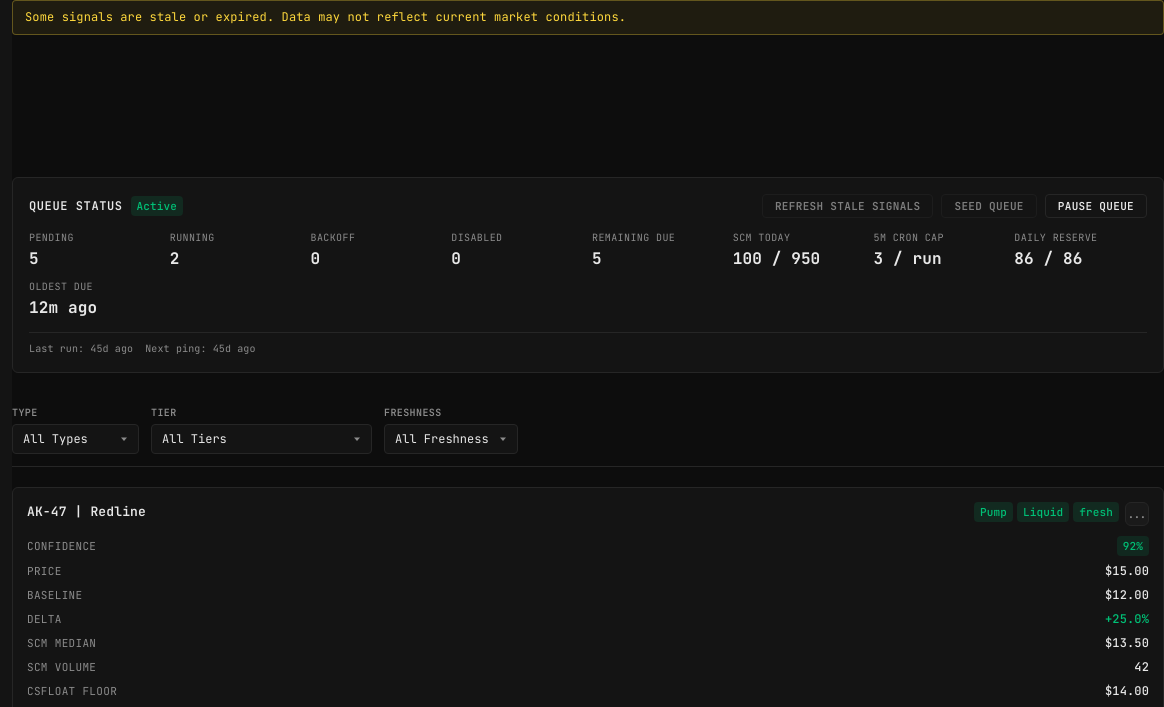
Scenario: IntelligenceDashboard › shows a mutation error when queue pause fails
The image size is (1164, 707).
Click the button with aria-label "Pause signal processing" at (1096, 206), box [1045,194,1147,218]
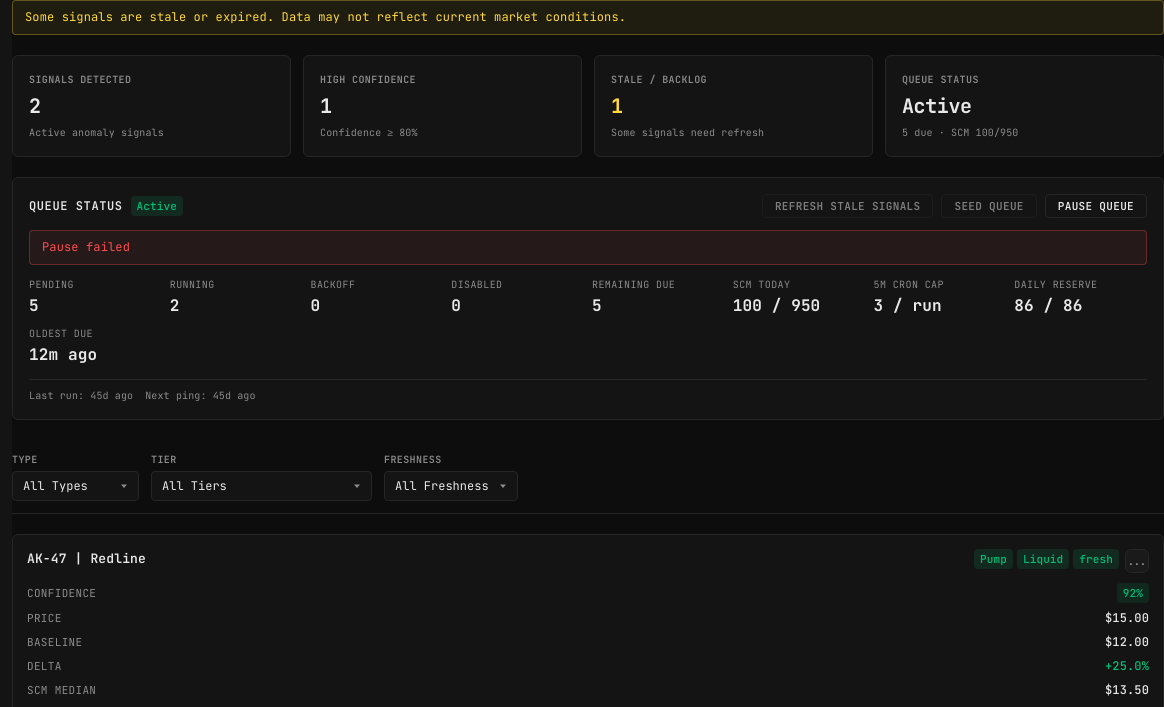
Expected: the text "Pause failed" is shown, [29,230,1147,265]
